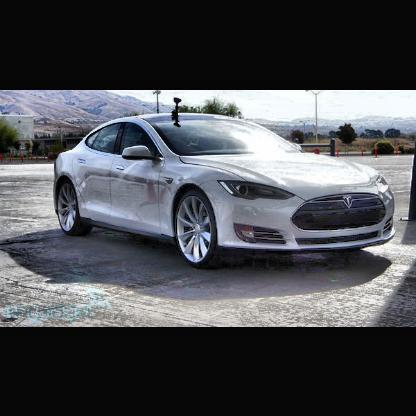Tesla Model S Sedan 2012: (54, 112, 399, 271)
